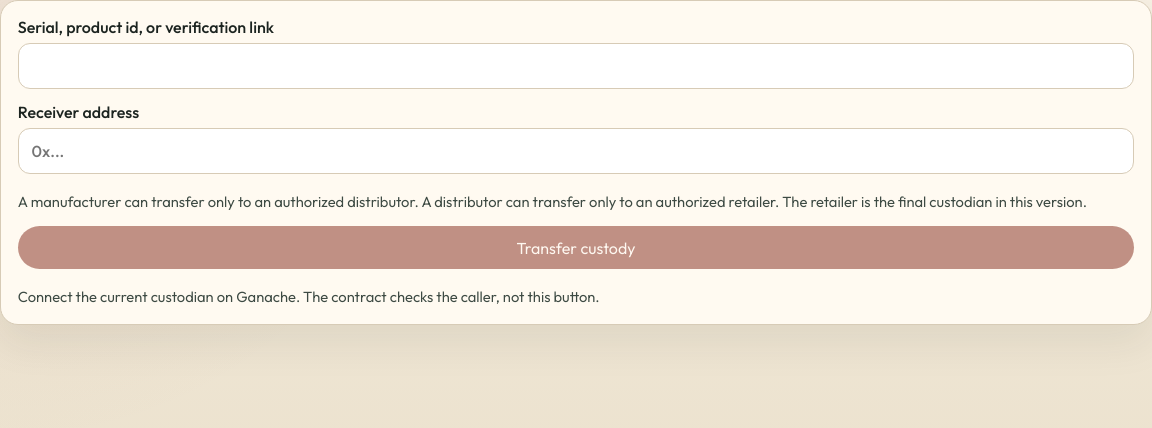
it: pages and forms › rejects a transfer with an invalid receiver before any transaction
The image size is (1152, 428).
Type "SN-1" into the field labelled "Serial, product id, or verification link" at point(576, 66), box [18,43,1134,89]
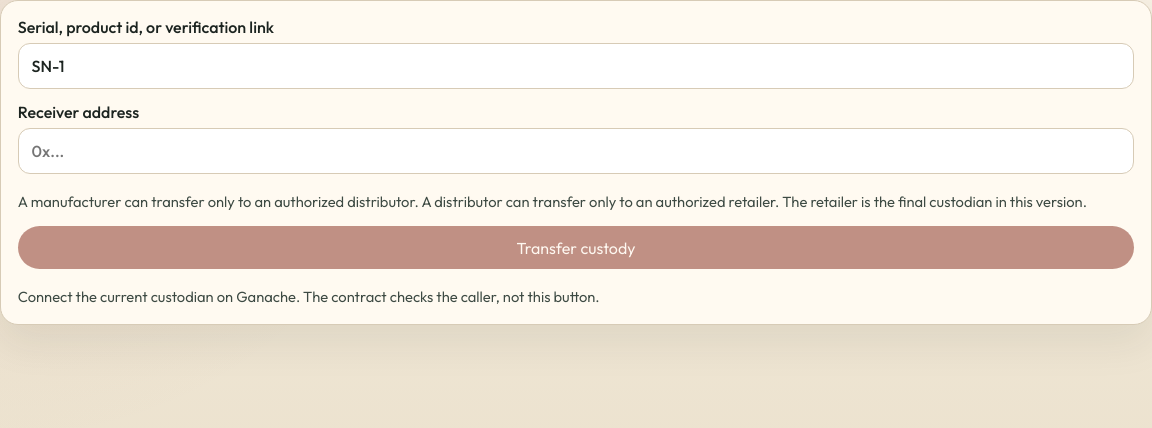
Type "nope" into the field labelled "Receiver address" at point(576, 151), box [18,128,1134,174]
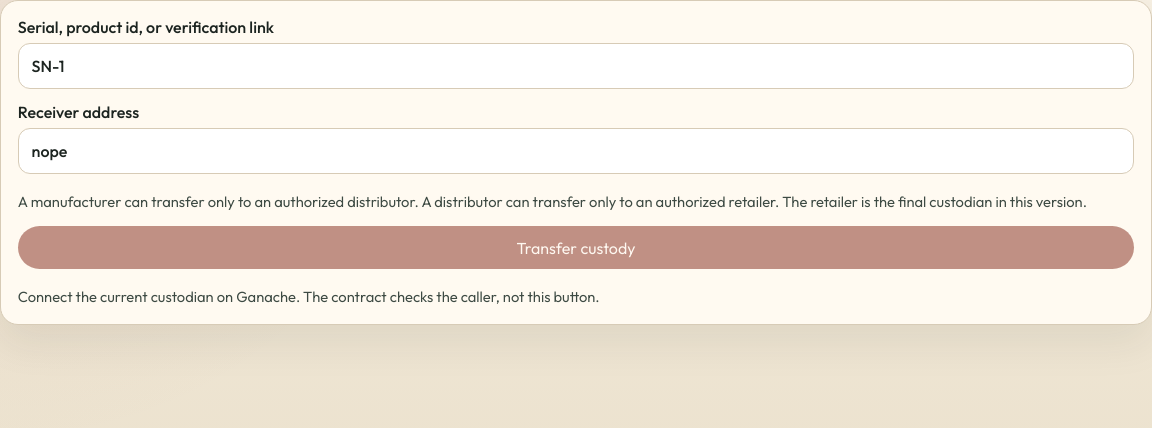
Submit the form named "transfer custody"
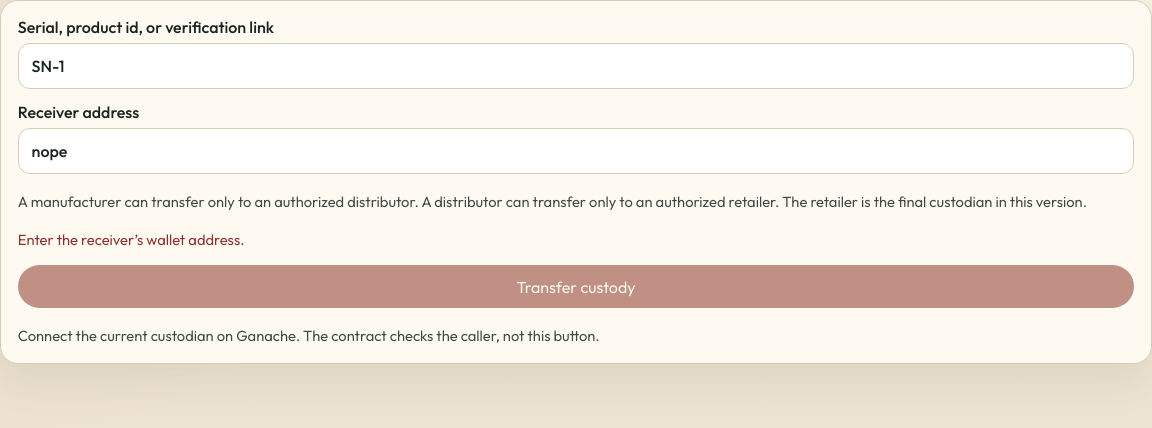
Expected: the button "Transfer custody" is disabled, [18,265,1134,308]
Expected: the text "Enter the receiver’s wallet address." is shown, [18,230,244,249]
